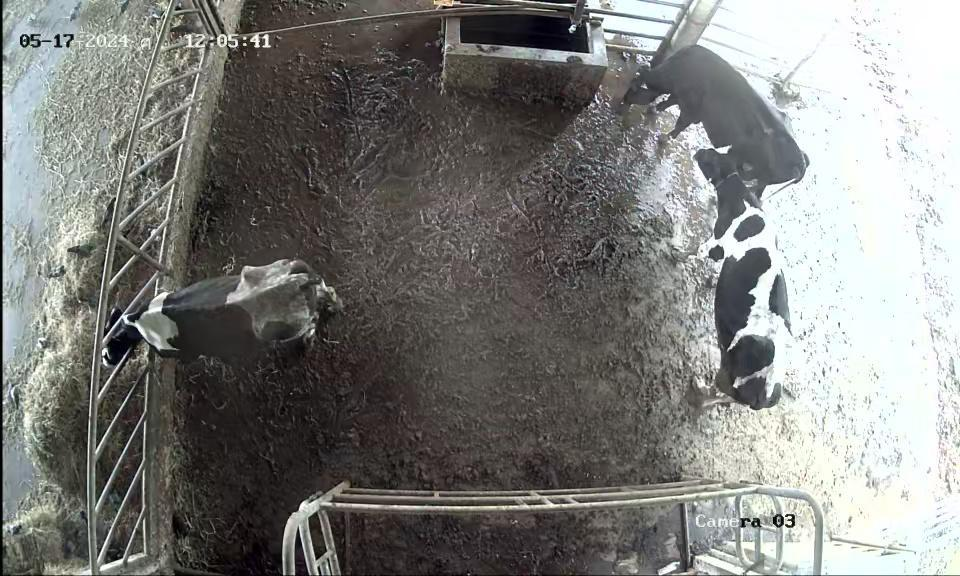eat: (70, 291, 204, 372)
stand: (677, 141, 799, 421), (621, 43, 818, 210)
